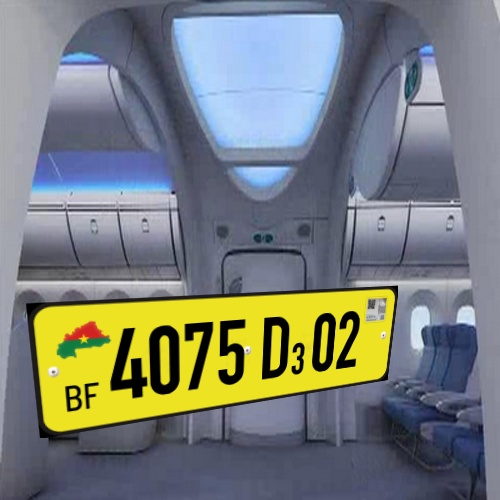plate: (13, 273, 414, 440)
